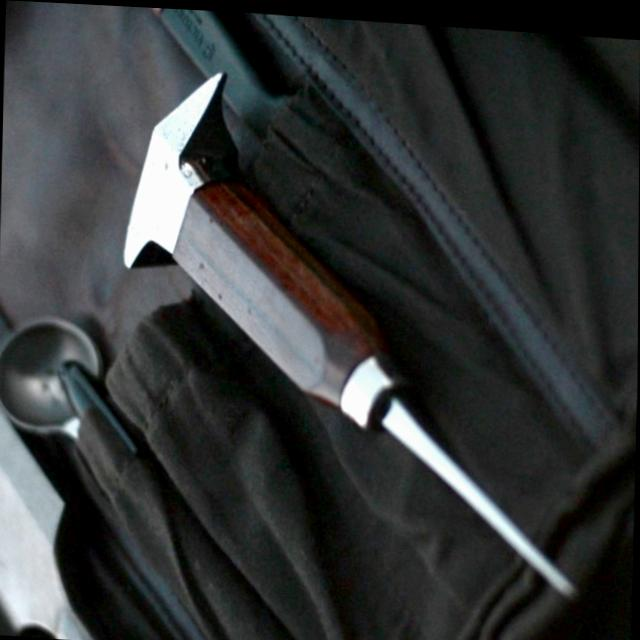ice pick: (116, 62, 592, 590)
